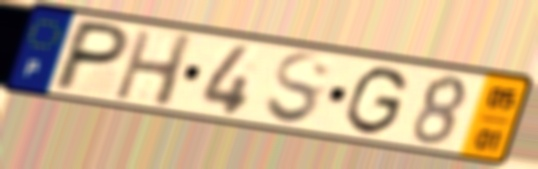4: (200, 42, 253, 117)
8: (409, 73, 472, 147)
G: (342, 64, 412, 139)
H: (110, 27, 198, 111)
P: (47, 17, 135, 94)
S: (262, 51, 335, 128)
